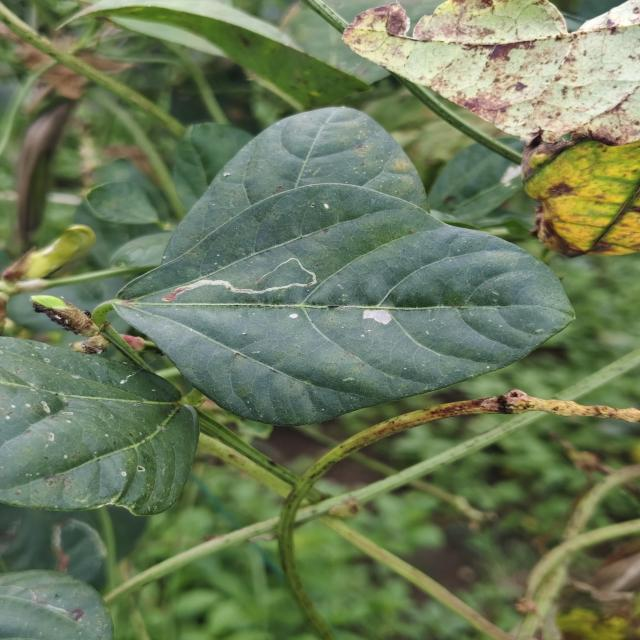leaf-moderate: (343, 0, 640, 147), (522, 133, 640, 257)
sitaw-aphid-high: (116, 185, 573, 425), (0, 338, 199, 515), (190, 107, 430, 212)
